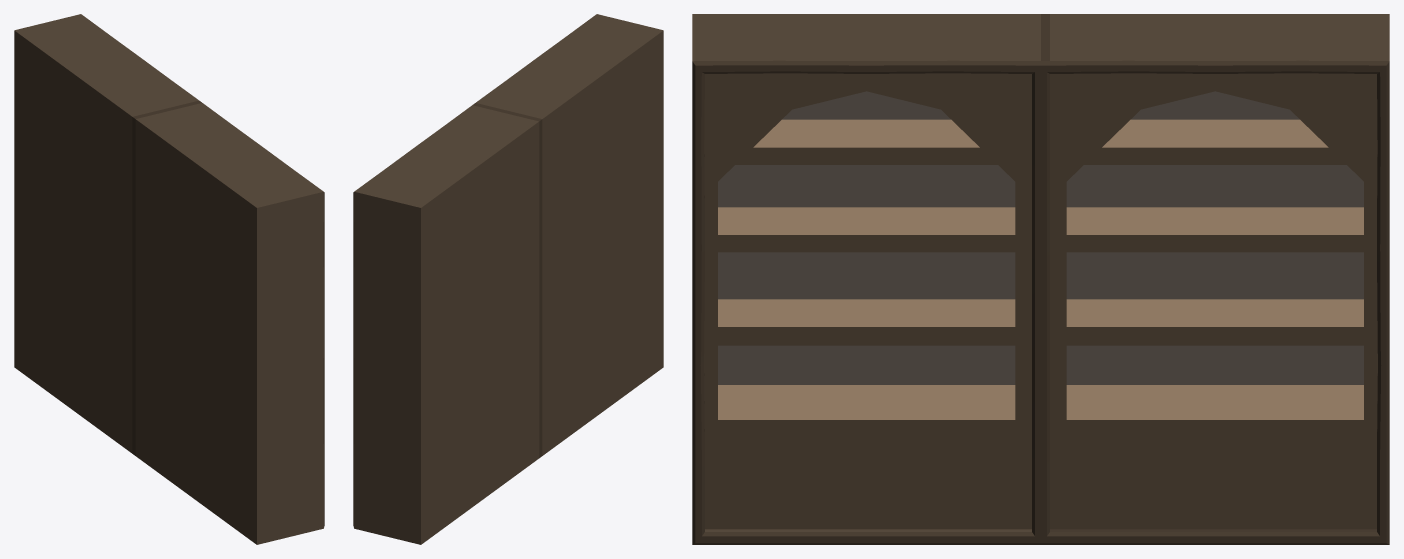
The model's file is fancy_bookshelf_small.fbx.
3 renders of one model, left to right at view 1: azimuth 30°, elevation 25°; view 2: azimuth 150°, elevation 25°; view 3: azimuth 270°, elevation 25°, orthographic. The views are drawn at different scales.
Visible parts, largest first — view 1: bookshelf1; view 2: bookshelf1; view 3: bookshelf1.
Part boxes in pixels (box(x1,y1,x2,y2)): bookshelf1: box(14, 14, 324, 544); bookshelf1: box(353, 14, 663, 544); bookshelf1: box(692, 14, 1389, 544).
Bounding box in the file's own units: 80.3 × 376 × 491.
